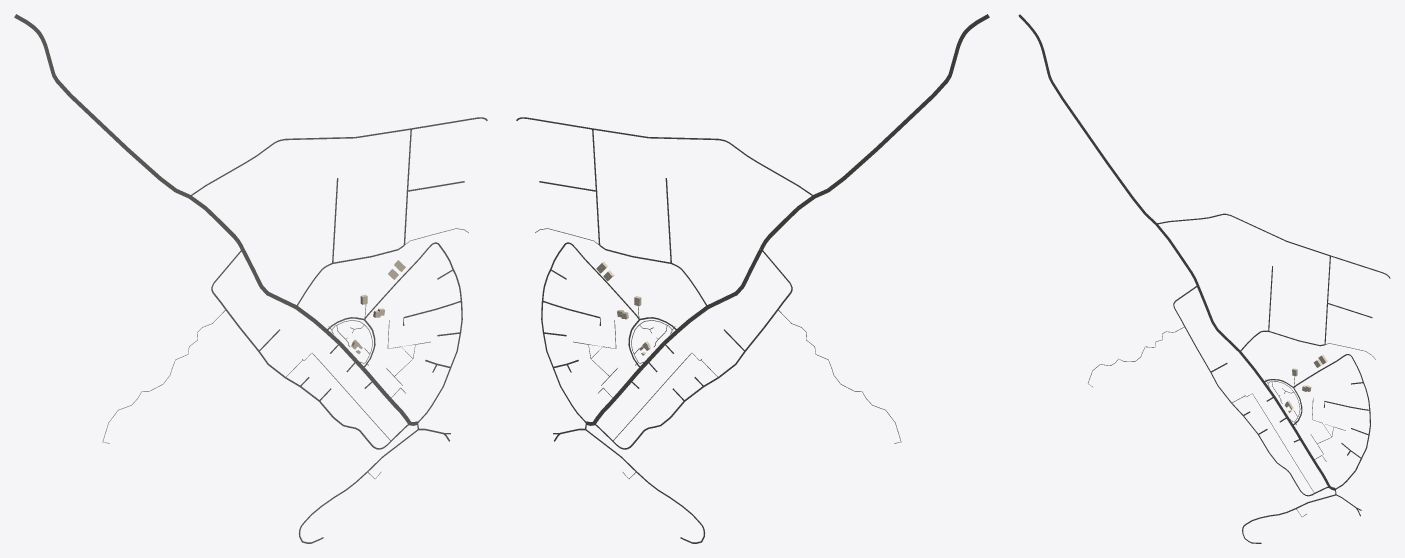
File: historic-palestine-12_15_3537_3093.glb
3 views of the same model, side by side, from view 1: azimuth 30°, elevation 25°; view 2: azimuth 150°, elevation 25°; view 3: azimuth 330°, elevation 25° (orthographic). The views are drawn at different scales.
Parts seen in each view (by area): view 1: Road 2499, Road .010, Road .002; view 2: Road 2499, Road .010, Road .002; view 3: Road 2499.
Part boxes in pixels (x1,y1,x2,y2): Road 2499: [14, 14, 417, 425]; Road .010: [189, 117, 487, 196]; Road .002: [211, 290, 408, 449]; Road 2499: [586, 14, 989, 425]; Road .010: [516, 117, 814, 196]; Road .002: [594, 290, 792, 449]; Road 2499: [1018, 14, 1335, 490].
Size of the model in its own units: 1062 by 1289 by 8.7.
